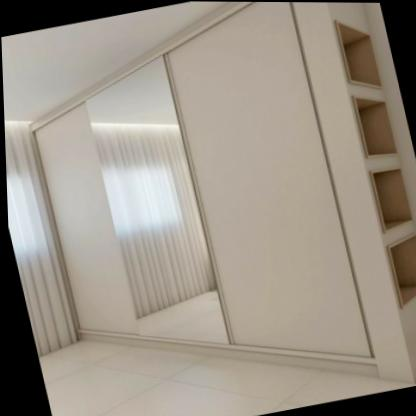Ceramic floor: (36, 339, 416, 416)
Closet: (31, 1, 414, 382)
